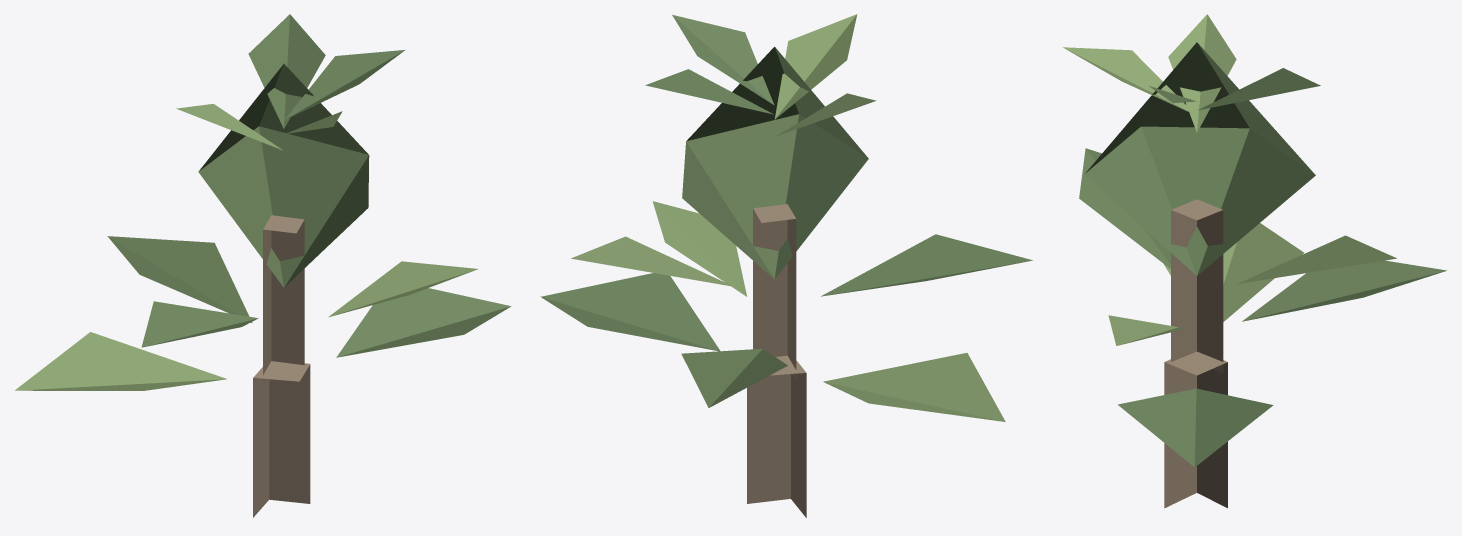
File: shui.luweicong@seedling__summer.glb
The picture shows the model from 3 angles, left to right: view 1: azimuth 30°, elevation 25°; view 2: azimuth 150°, elevation 25°; view 3: azimuth 270°, elevation 25°; orthographic projection. The views are drawn at different scales.
Parts seen in each view (by area): view 1: shui.luweicong@seedling__summer; view 2: shui.luweicong@seedling__summer; view 3: shui.luweicong@seedling__summer.
Boxes of the visible parts, x1=… form: shui.luweicong@seedling__summer: x1=15, y1=14, x2=511, y2=517; shui.luweicong@seedling__summer: x1=540, y1=14, x2=1032, y2=517; shui.luweicong@seedling__summer: x1=1063, y1=14, x2=1446, y2=508.
Size of the model in its own units: 0.3086 by 0.2789 by 0.2088.
